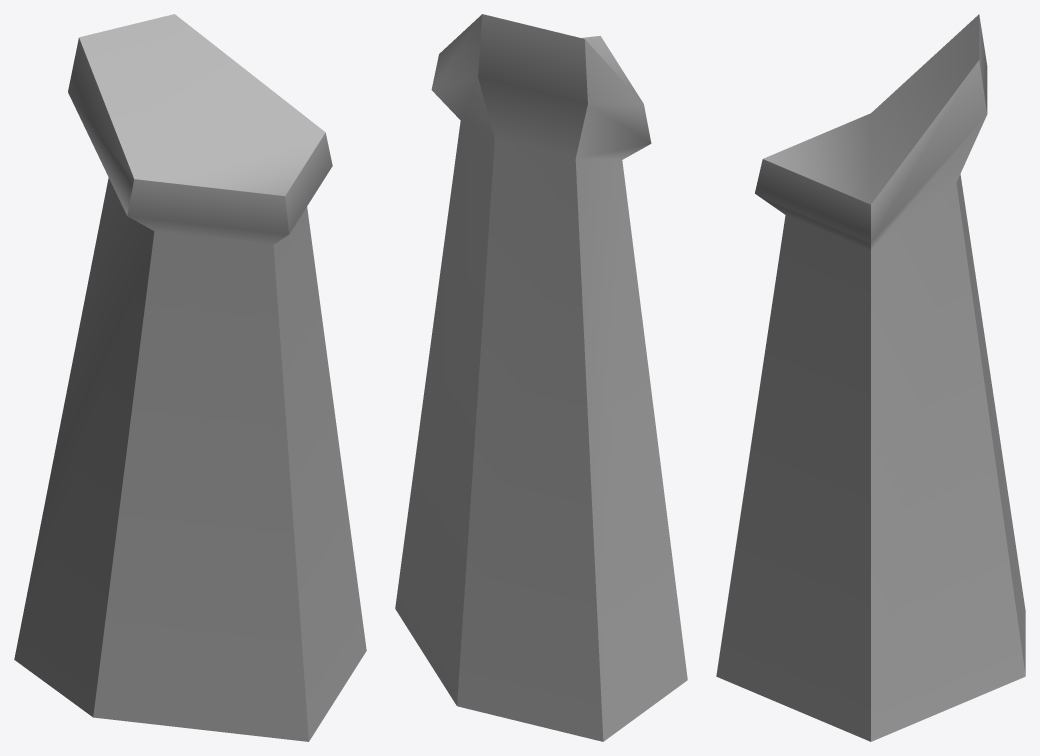
Rendered from Ground Stone 10.fbx.
3 views of the same model, side by side, from view 1: azimuth 30°, elevation 25°; view 2: azimuth 150°, elevation 25°; view 3: azimuth 270°, elevation 25° (orthographic). The views are drawn at different scales.
Visible parts, largest first — view 1: Ground_Stone_10; view 2: Ground_Stone_10; view 3: Ground_Stone_10.
Boxes of the visible parts, x1,y1,x2,y2 form: Ground_Stone_10: (14, 14, 366, 741); Ground_Stone_10: (395, 14, 687, 741); Ground_Stone_10: (716, 14, 1025, 741).
Size of the model in its own units: 0.65 by 1.43 by 0.65.
